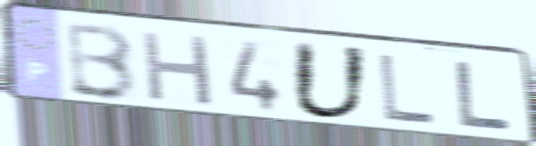4: (227, 37, 286, 114)
B: (65, 21, 141, 104)
H: (139, 28, 217, 109)
L: (452, 58, 516, 132), (376, 52, 439, 127)
U: (289, 38, 373, 123)
